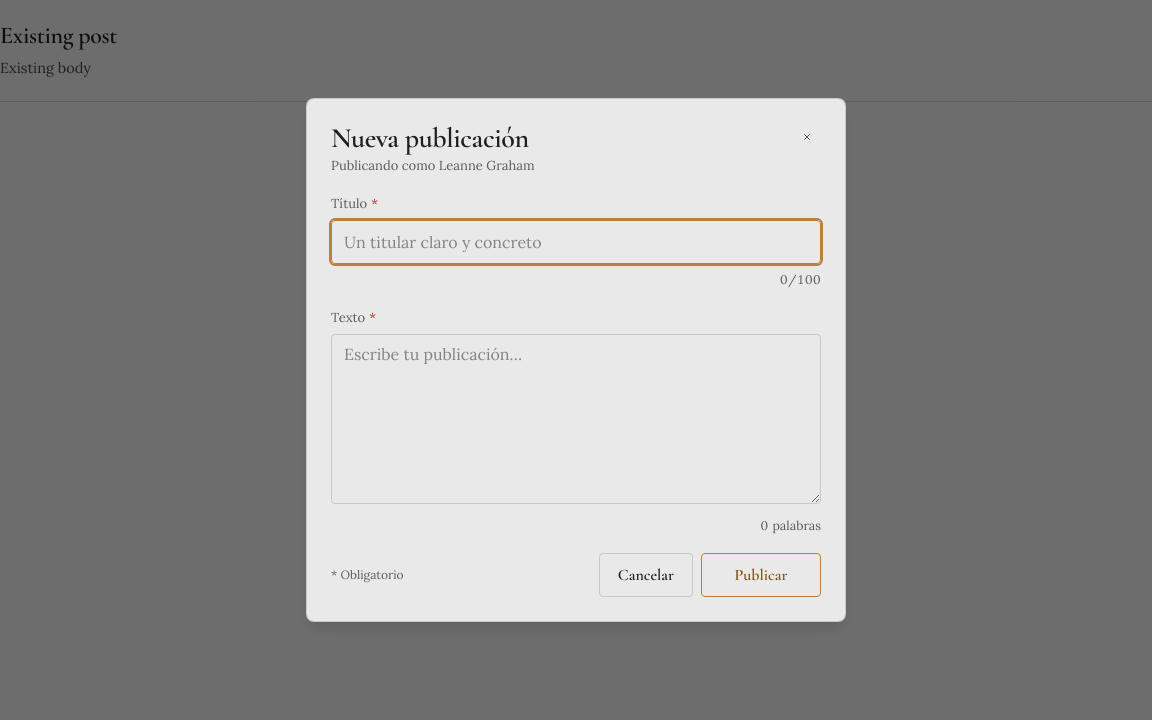
PostForm › R3: a valid submit adds the new post first and reports it as published
The image size is (1152, 720).
Type "New title" into the field labelled "Título" at {"x": 576, "y": 242}, box [331,220,821,264]
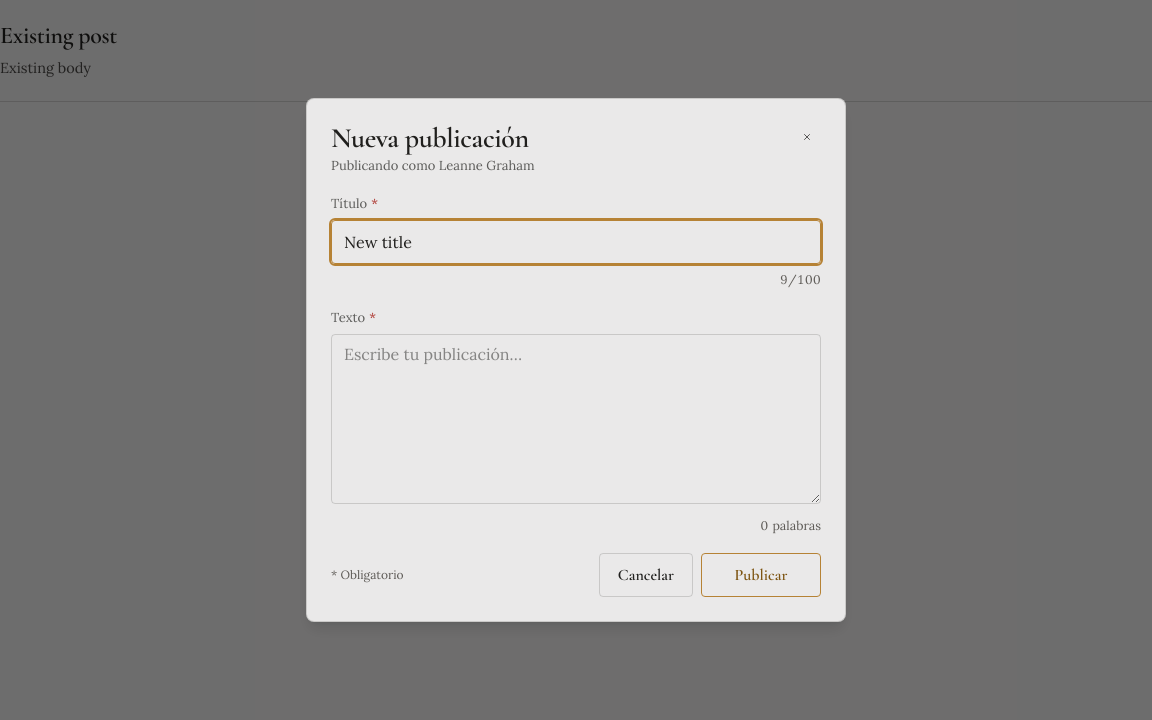
Type "New body" into the text box labelled "Texto" at {"x": 576, "y": 419}, box [331,334,821,504]
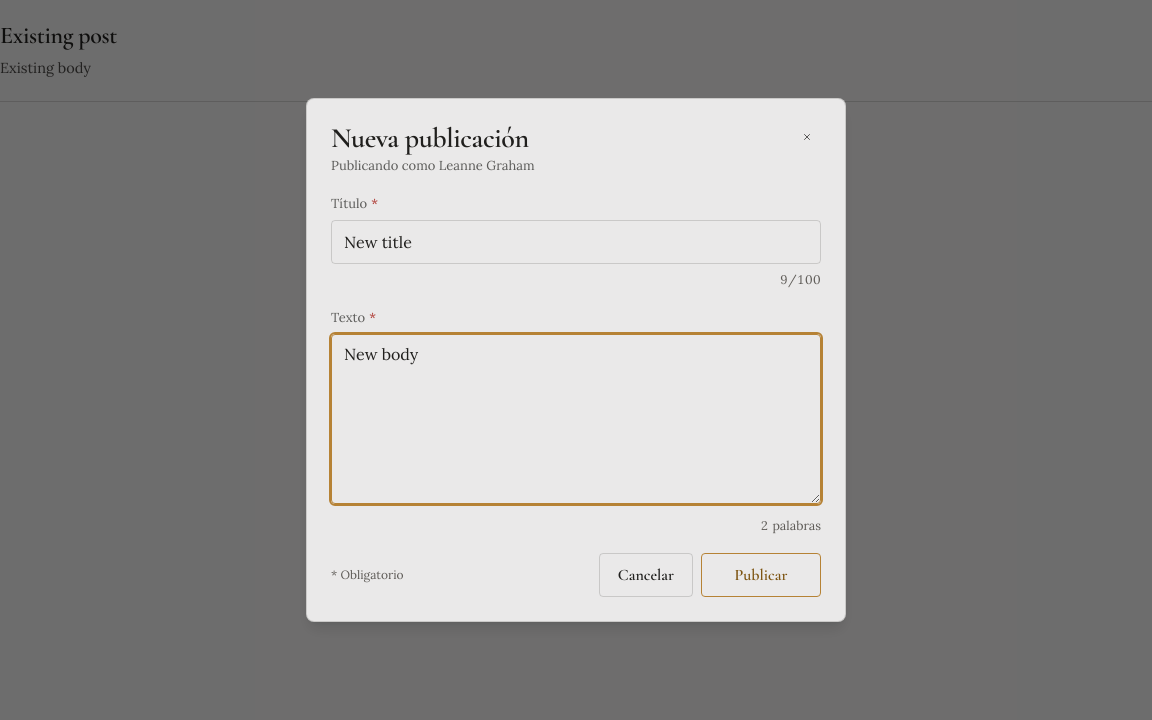
Click the button "Publicar" at {"x": 761, "y": 575}, box [701,553,821,597]
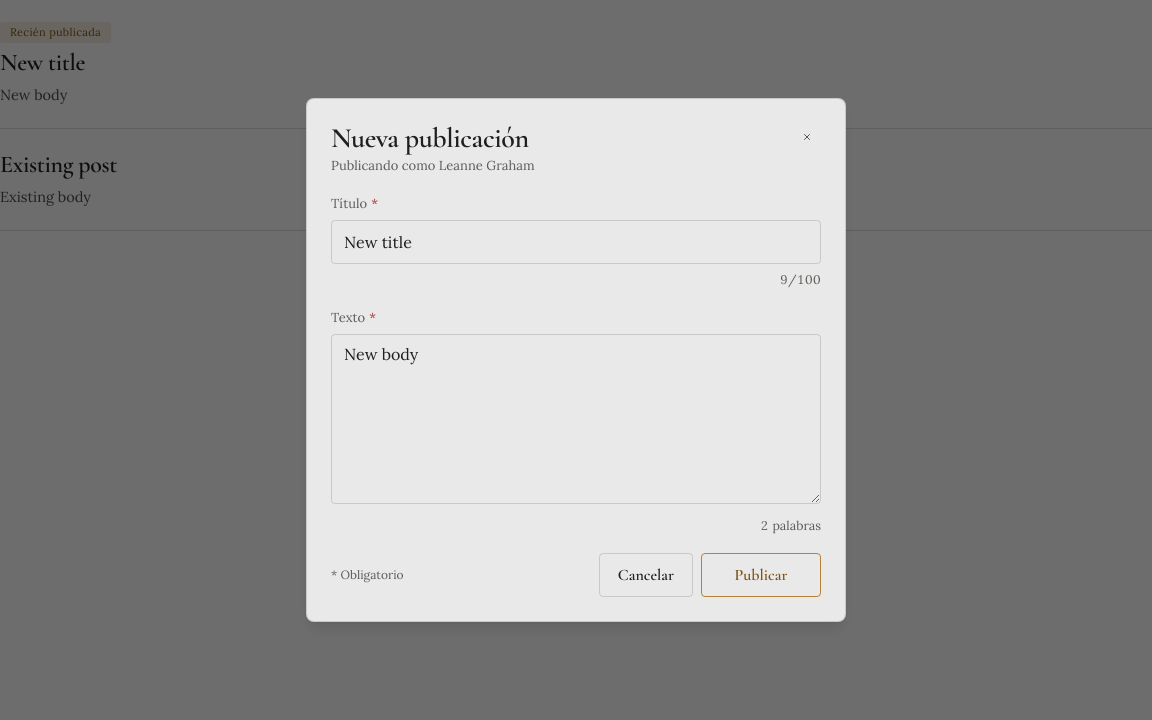
expect the headings read "New title", "Existing post", in this order: met, box [0,48,85,77]; [0,150,117,179]
expect the text "Recién publicada" is shown: met, box [0,22,111,43]
